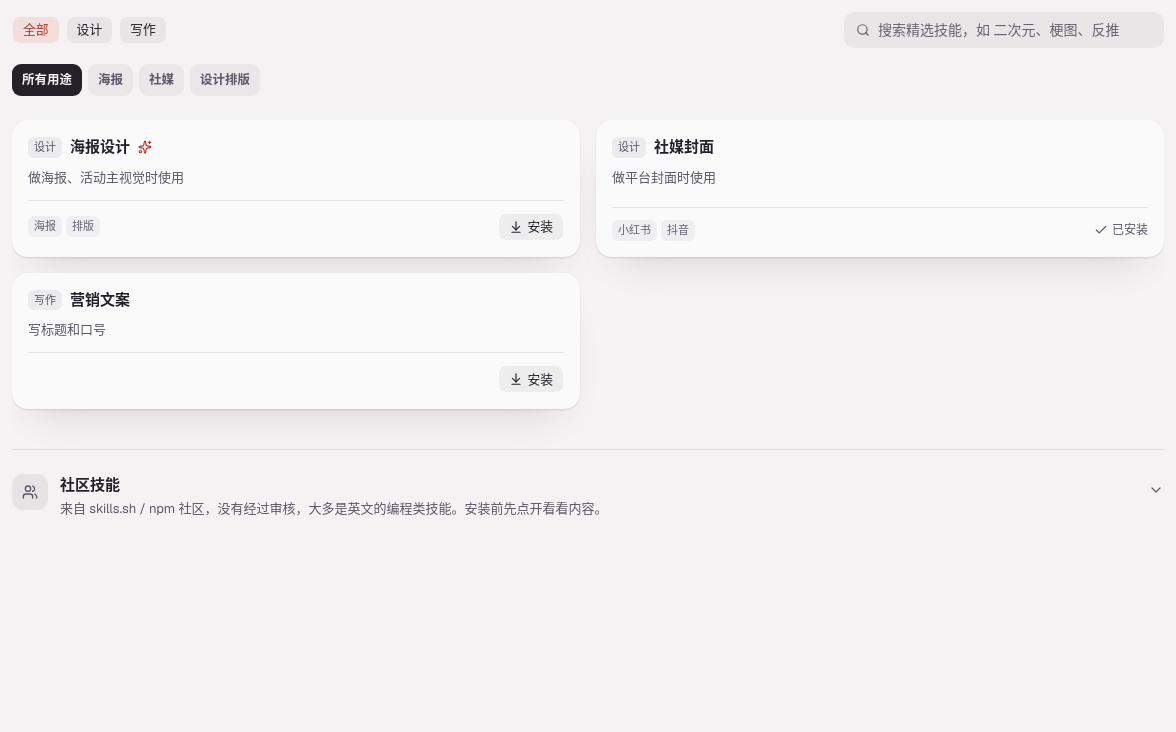
Test: MarketplacePanel › filters by category and by tag
The image size is (1176, 732).
Click the button "写作" at (143, 30), box [119,16,167,44]
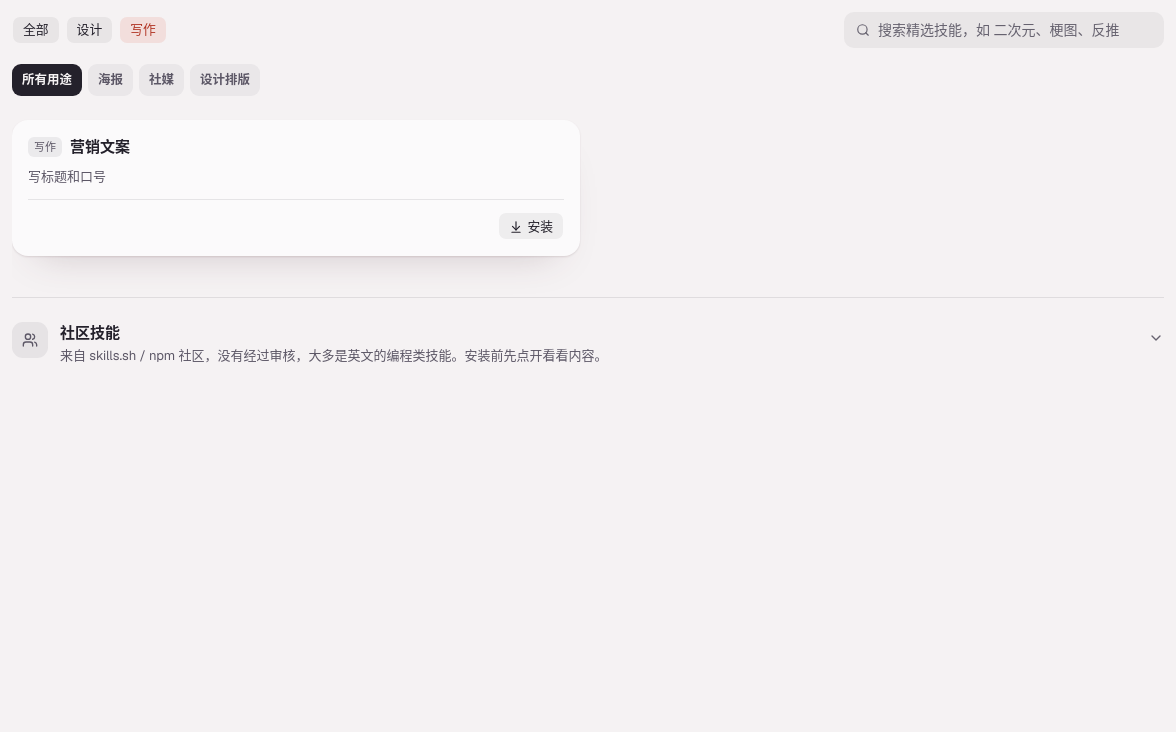
Check: the button "营销文案" is shown, box [70,136,130,158]
Check: the button "海报设计" is gone
Click the button "全部" at (36, 30), box [12,16,60,44]
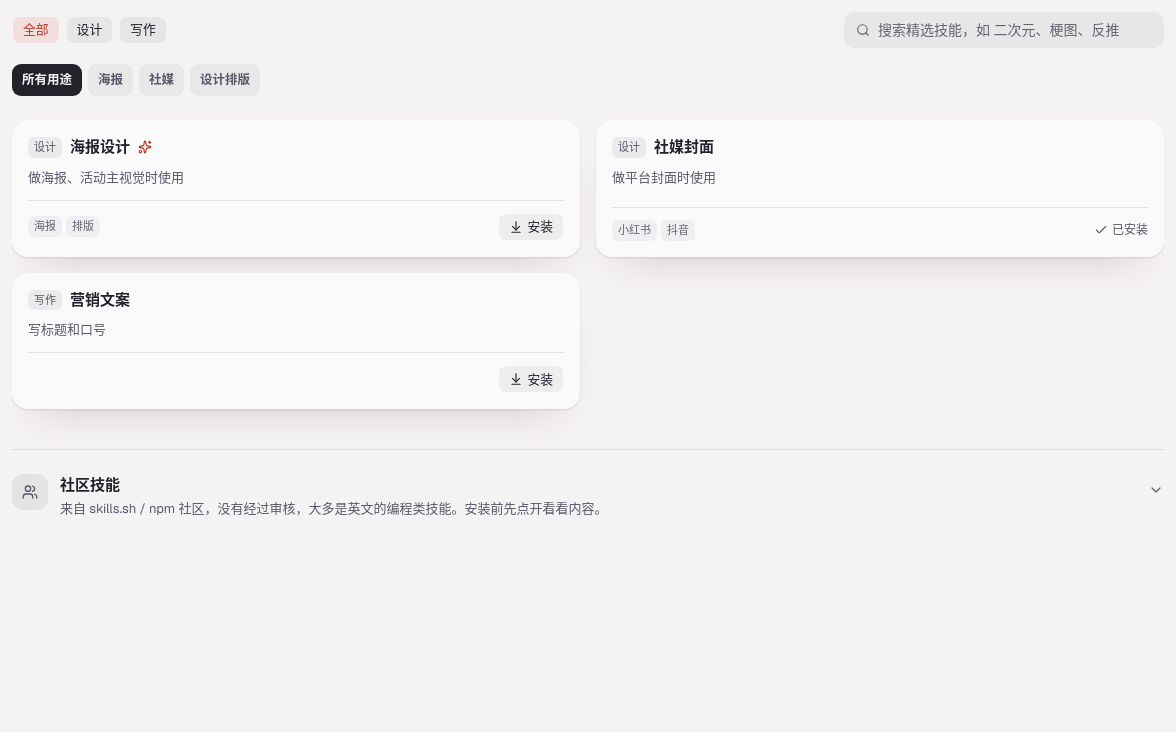
Type "抖音" into the search field labelled "搜索精选技能" at (1004, 30), box [844,12,1164,48]
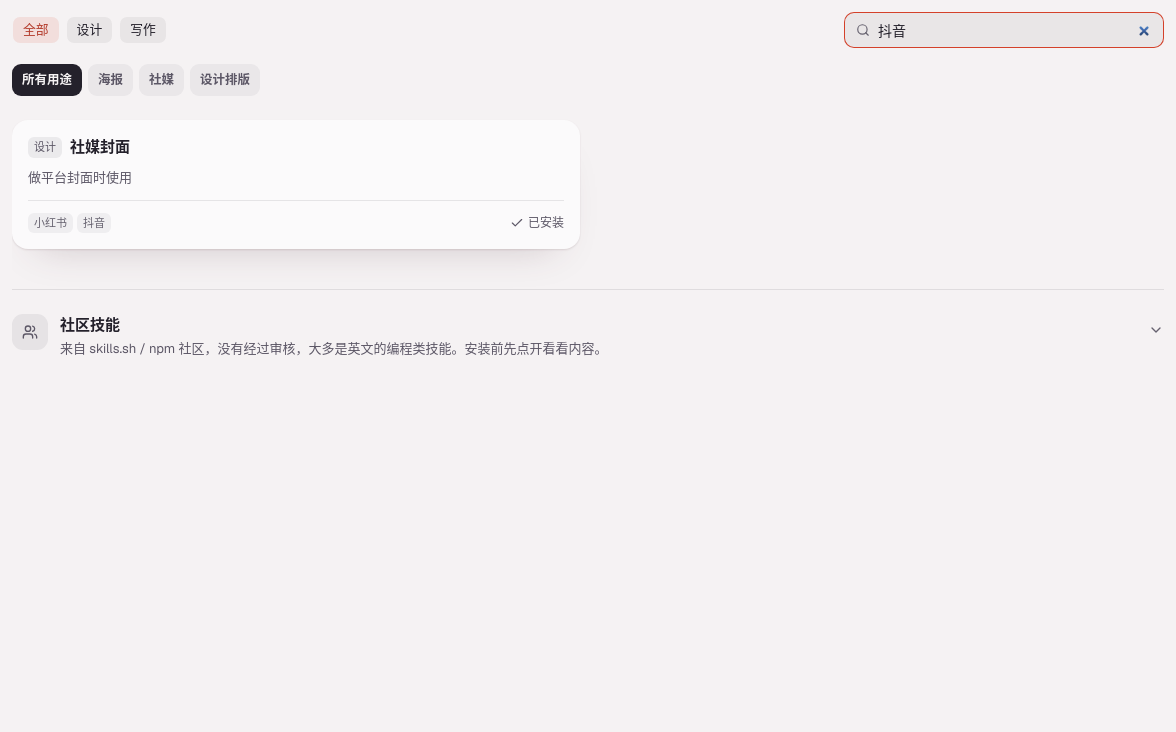
Check: the button "社媒封面" is shown, box [70,136,130,158]
Check: the button "海报设计" is gone
